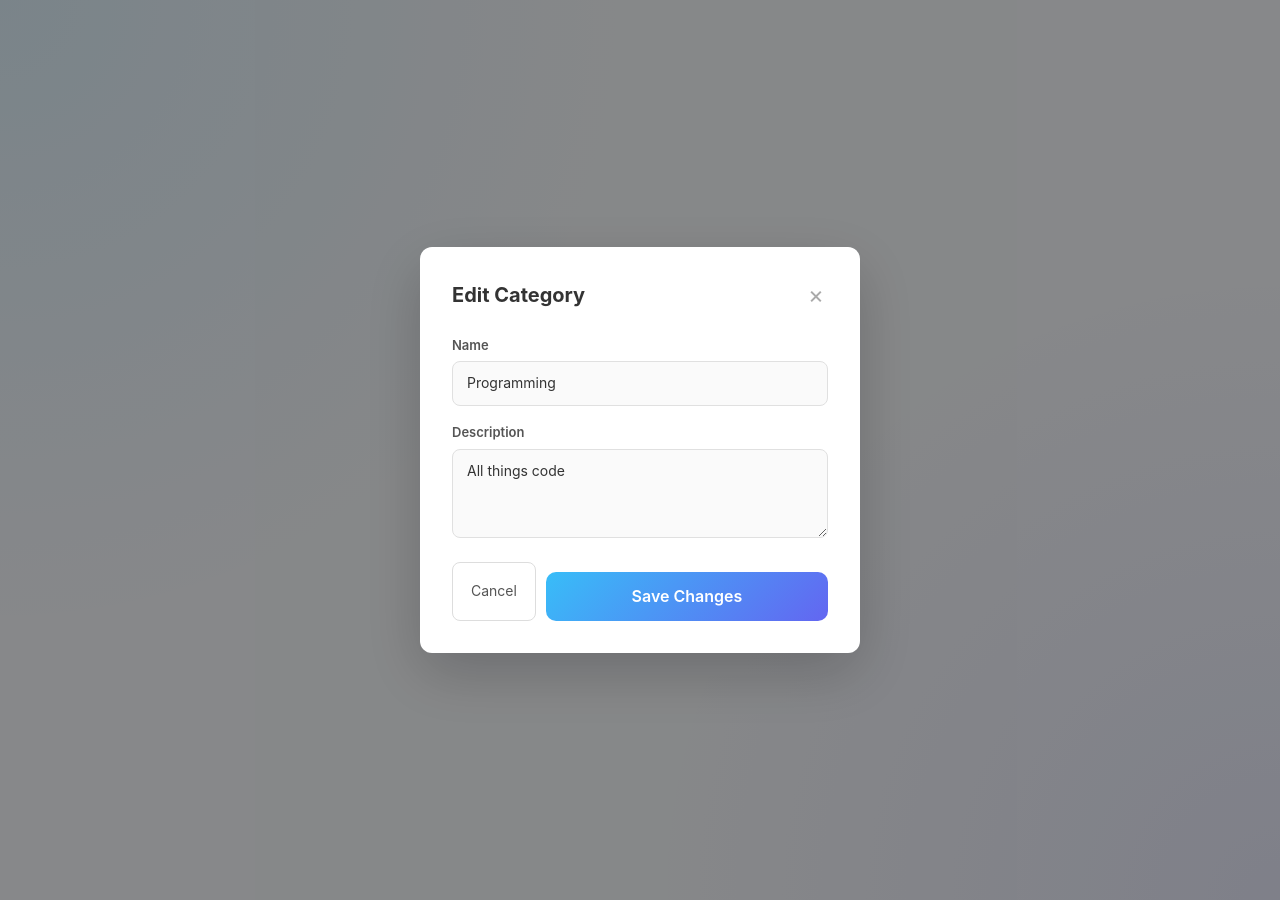
Scenario: EditCategoryModal › server error handling › shows a fallback error when the server sends no message
This screenshot has width=1280, height=900.
Step 1. Click the button "Save Changes" → (687, 597), box x1=546 y1=572 x2=828 y2=621
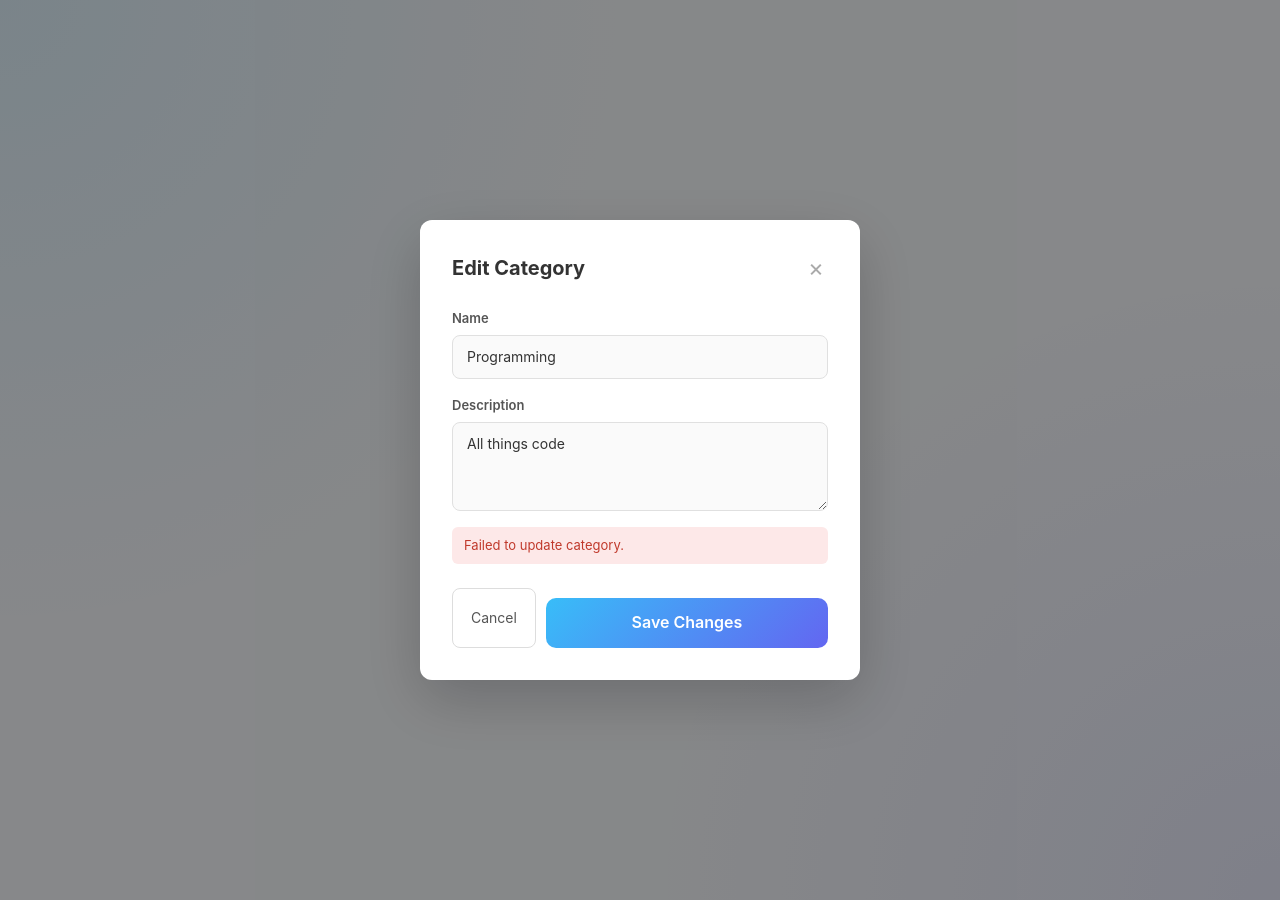
Now the text "Failed to update category." is shown, box x1=452 y1=527 x2=828 y2=564
